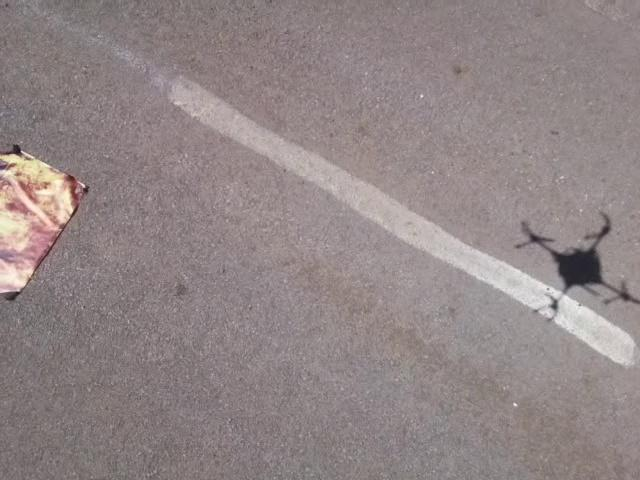fire-poster: (0, 141, 90, 302)
